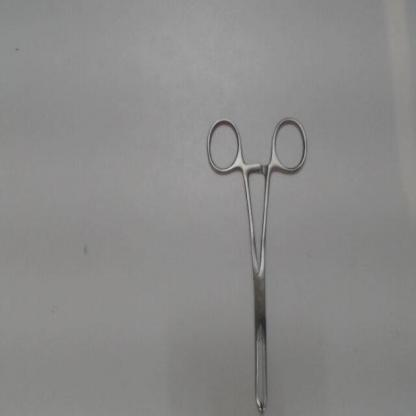Allis Tissue Forceps: (199, 111, 316, 415)
